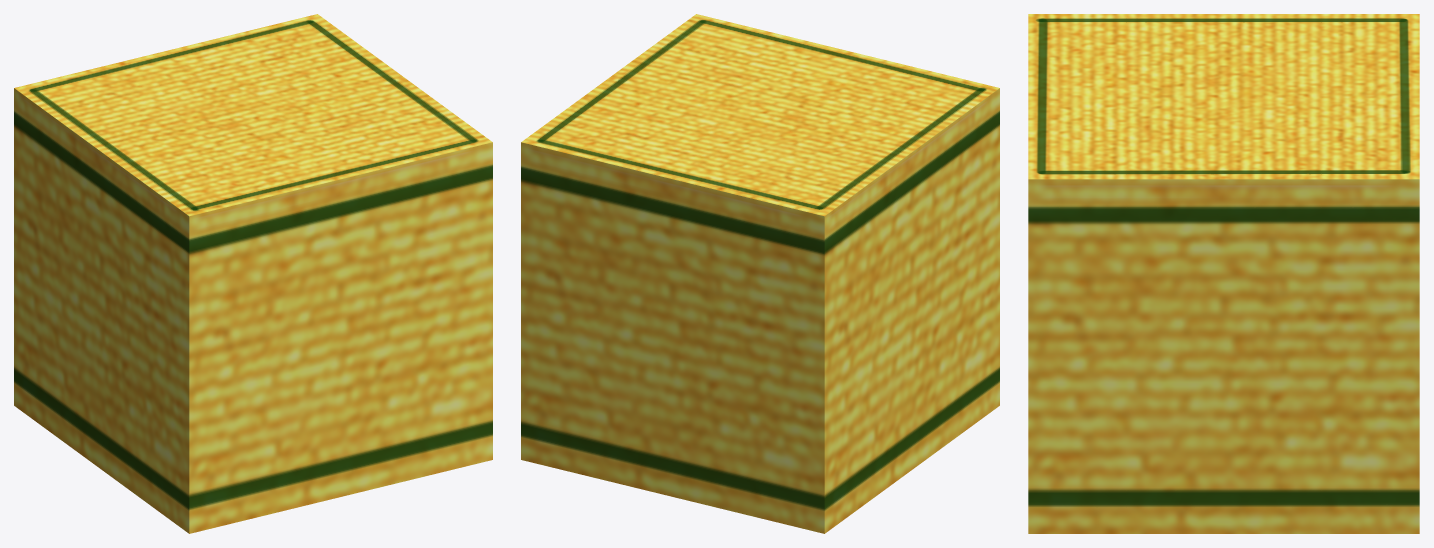
File: 4x4 Generic.fbx
3 views of the same model, side by side, from view 1: azimuth 30°, elevation 25°; view 2: azimuth 150°, elevation 25°; view 3: azimuth 270°, elevation 25° (orthographic). The views are drawn at different scales.
Visible parts, largest first — view 1: 4x4 Generic; view 2: 4x4 Generic; view 3: 4x4 Generic.
Part boxes in pixels (<box>): 4x4 Generic: <box>14,14,492,533</box>; 4x4 Generic: <box>521,14,999,533</box>; 4x4 Generic: <box>1028,14,1419,533</box>.
Size of the model in its own units: 400 by 400 by 400.
1 material, 1 textured.
